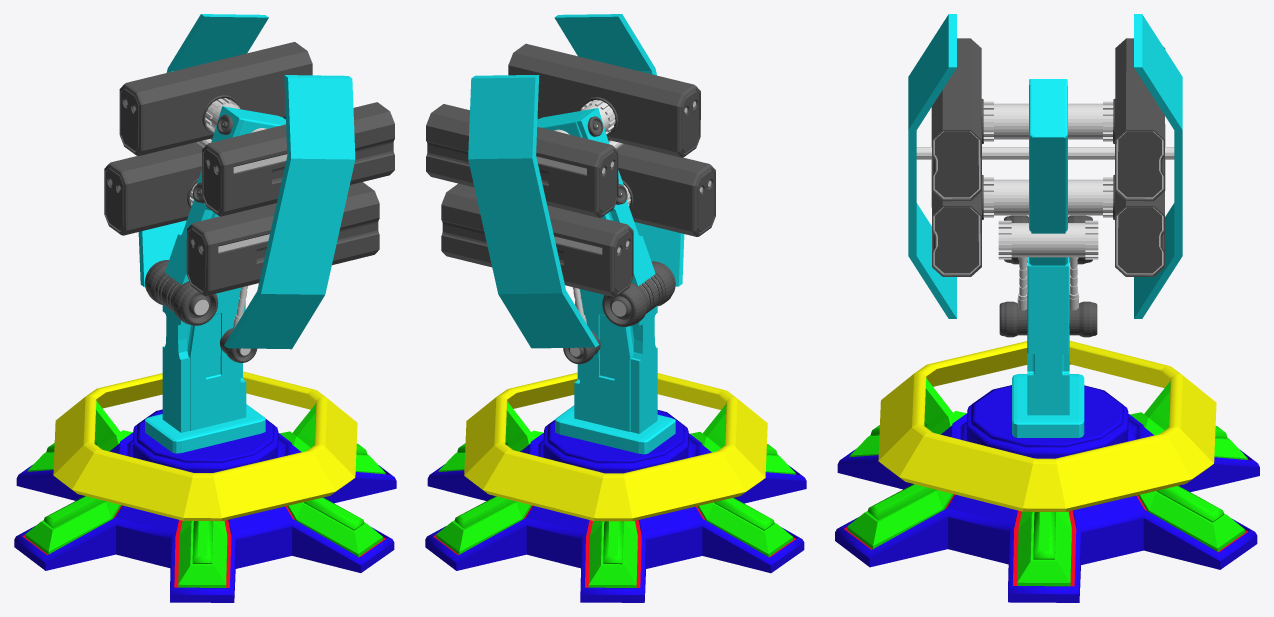
File: RocketTurret.fbx
3 views of the same model, side by side, from view 1: azimuth 30°, elevation 25°; view 2: azimuth 150°, elevation 25°; view 3: azimuth 270°, elevation 25° (orthographic). The views are drawn at different scales.
Parts seen in each view (by area): view 1: Head, Base; view 2: Head, Base; view 3: Base, Head.
Part boxes in pixels (bbox=[...]): Head: bbox=[104, 14, 394, 453]; Base: bbox=[14, 371, 396, 602]; Head: bbox=[426, 14, 715, 454]; Base: bbox=[425, 372, 806, 602]; Base: bbox=[835, 341, 1259, 602]; Head: bbox=[908, 14, 1182, 437].
Bounding box in the file's own units: 573 × 767 × 604.
